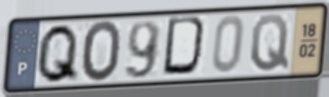0: (209, 13, 247, 77)
9: (122, 19, 166, 80)
D: (160, 14, 211, 79)
O: (81, 18, 124, 85)
Q: (34, 22, 81, 86), (248, 13, 290, 74)
